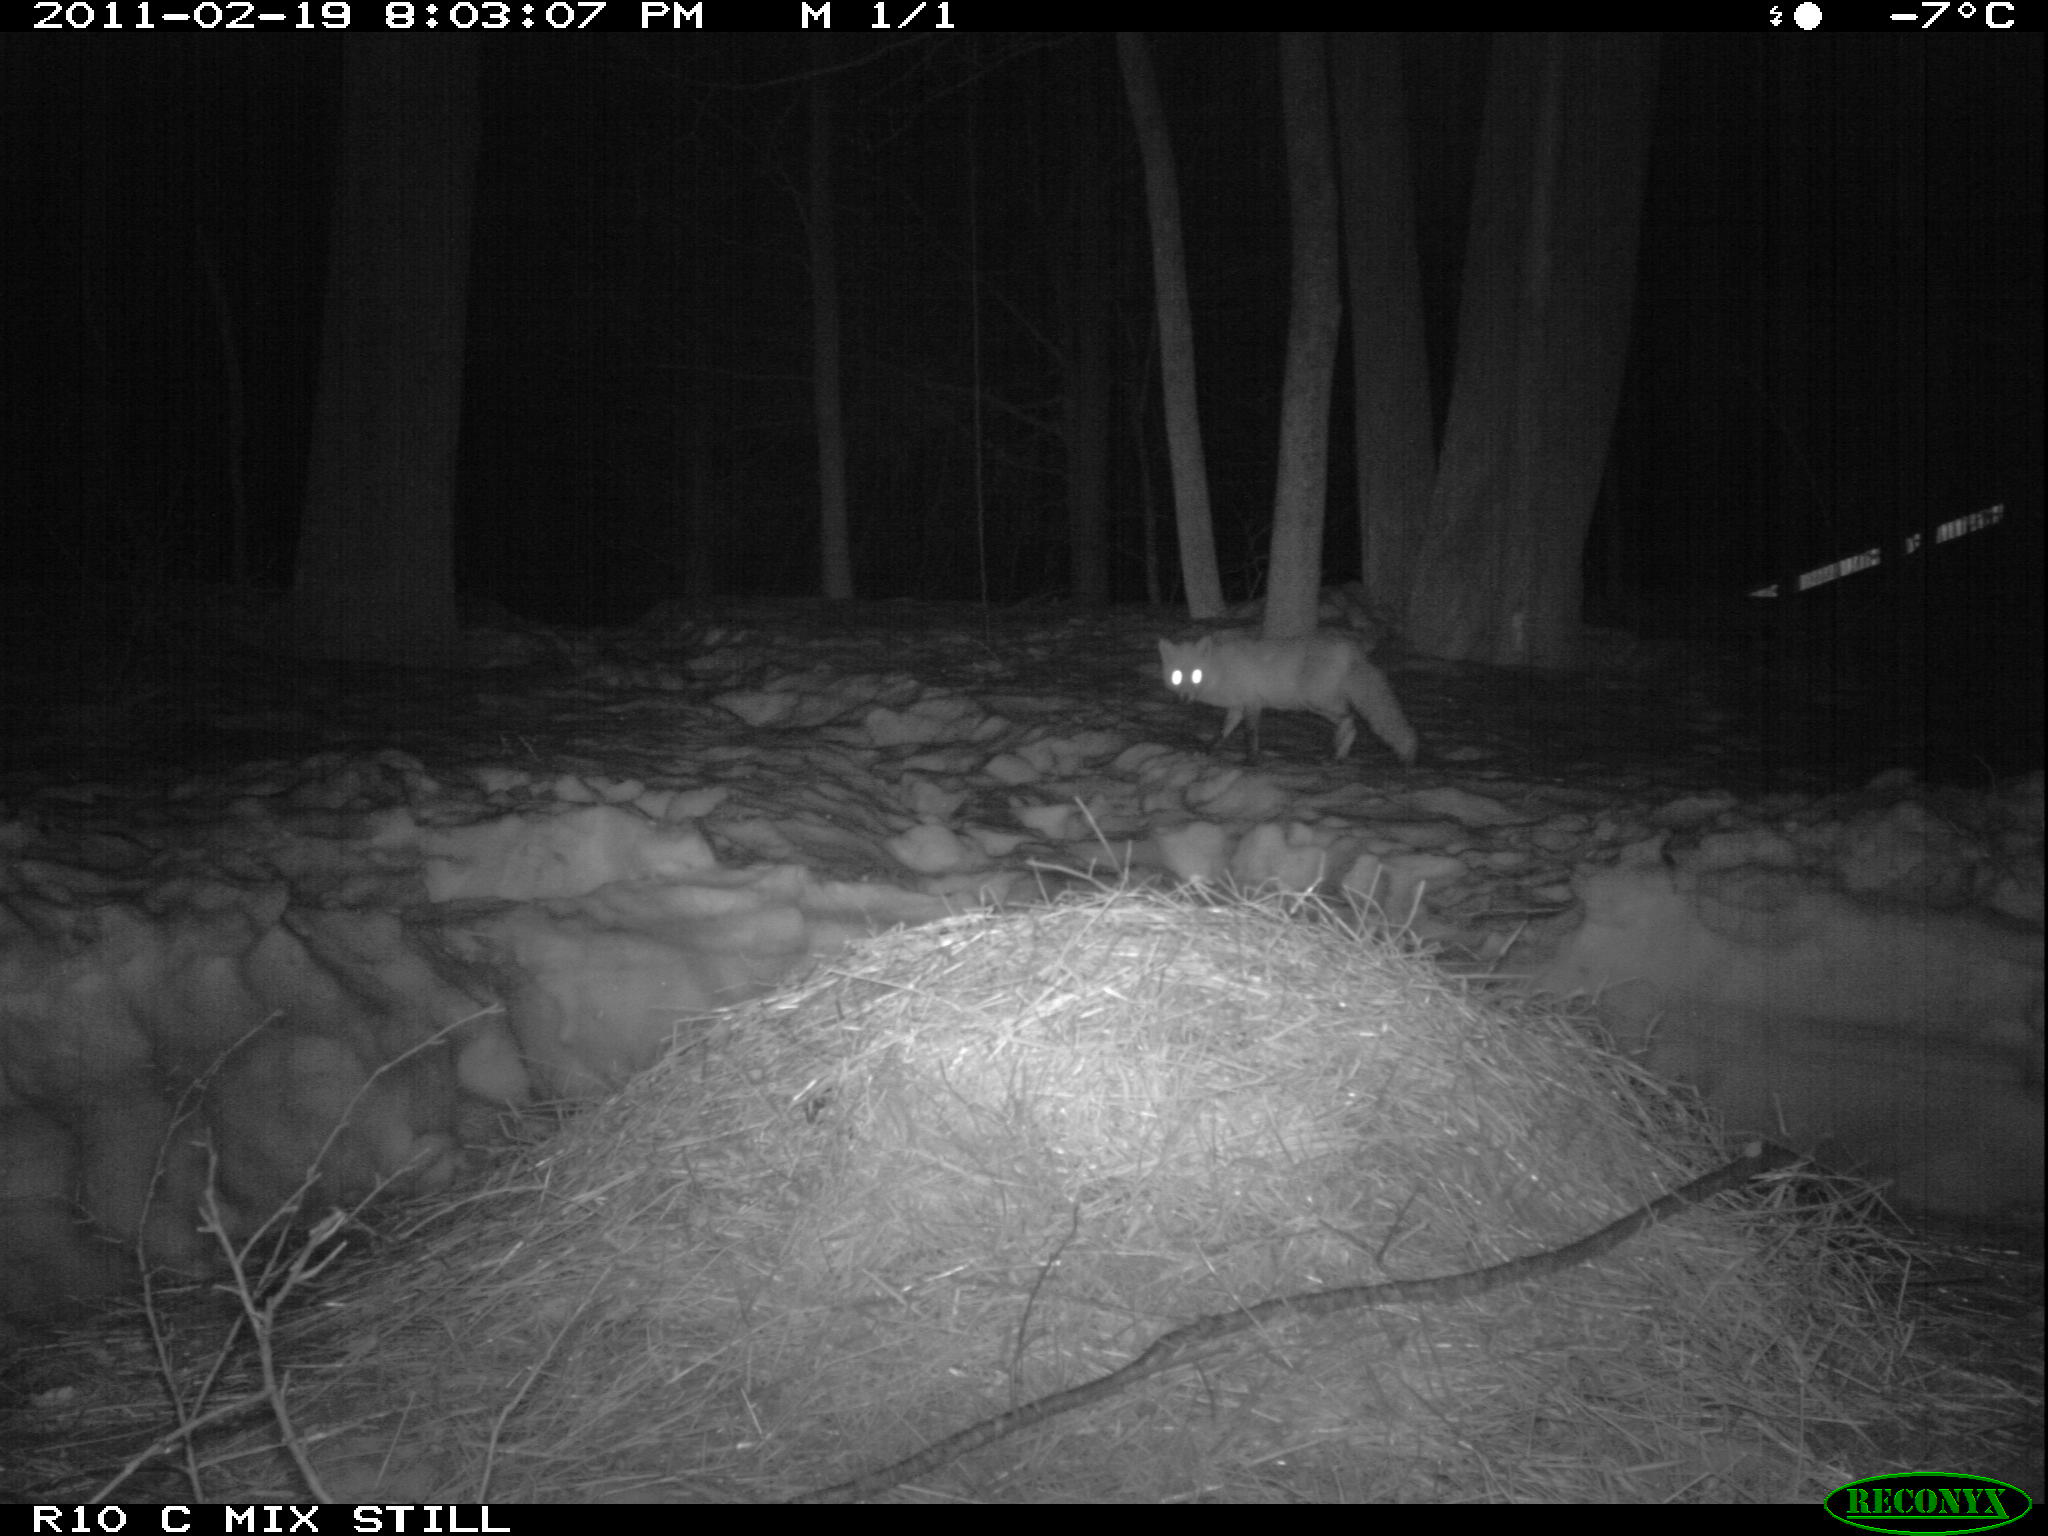fox: (1143, 603, 1450, 786)
